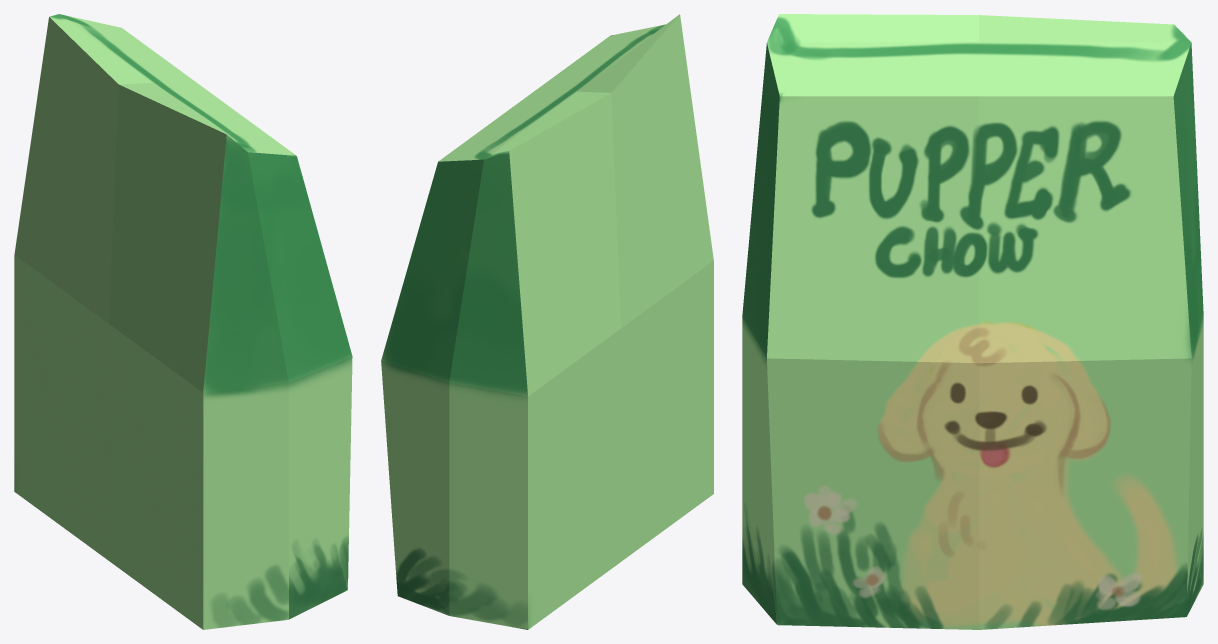
The model's file is DogFood.fbx.
The picture shows the model from 3 angles, left to right: view 1: azimuth 30°, elevation 25°; view 2: azimuth 150°, elevation 25°; view 3: azimuth 270°, elevation 25°; orthographic projection. The views are drawn at different scales.
Parts seen in each view (by area): view 1: Cube; view 2: Cube; view 3: Cube.
Part boxes in pixels (x1,y1,x2,y2): Cube: (14, 14, 352, 629); Cube: (381, 14, 713, 629); Cube: (742, 14, 1203, 629).
Bounding box in the file's own units: 69.81 × 204 × 157.
